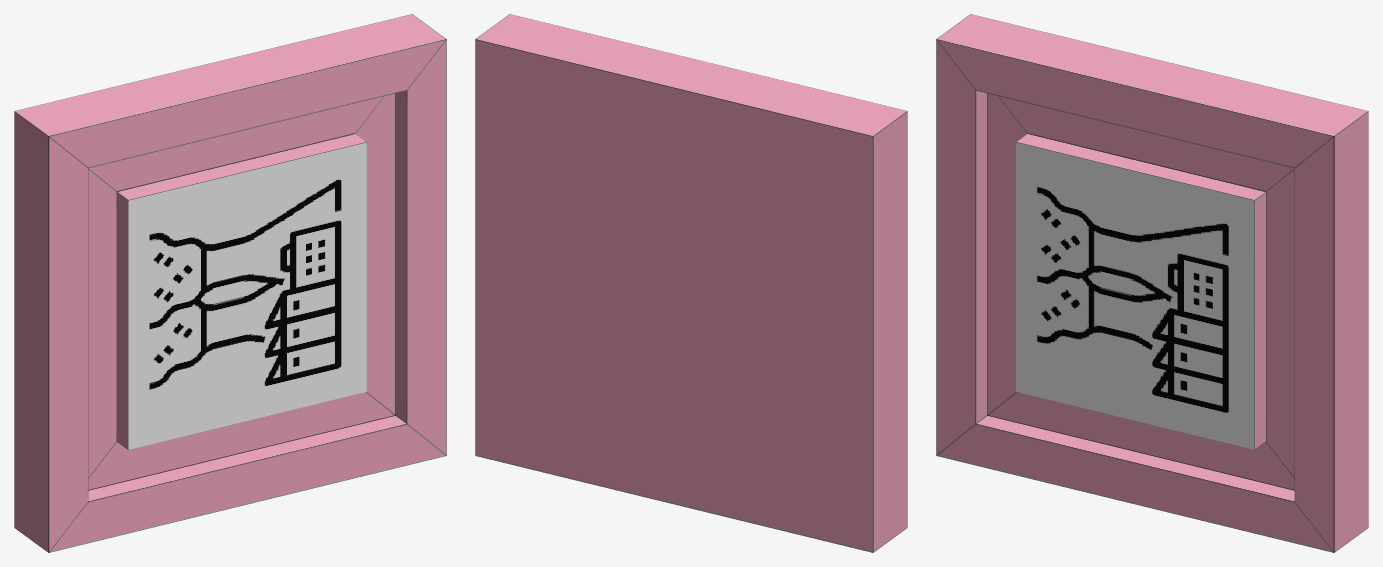
File: CarbonLevel1_rot_2_5.fbx
3 views of the same model, side by side, from view 1: azimuth 30°, elevation 25°; view 2: azimuth 150°, elevation 25°; view 3: azimuth 330°, elevation 25° (orthographic).
Parts seen in each view (by area): view 1: Plane; view 2: Plane; view 3: Plane.
Boxes of the visible parts, <box> form: Plane: <box>14,14,446,552</box>; Plane: <box>475,14,907,552</box>; Plane: <box>936,14,1368,552</box>.
Size of the model in its own units: 500 by 500 by 75.
Materials: 1 (1 with a texture image).
